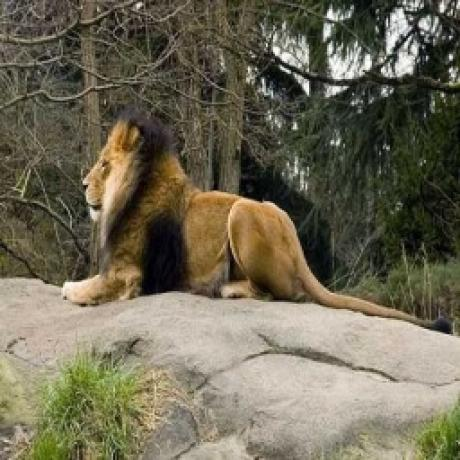Lion: (60, 107, 455, 332)
